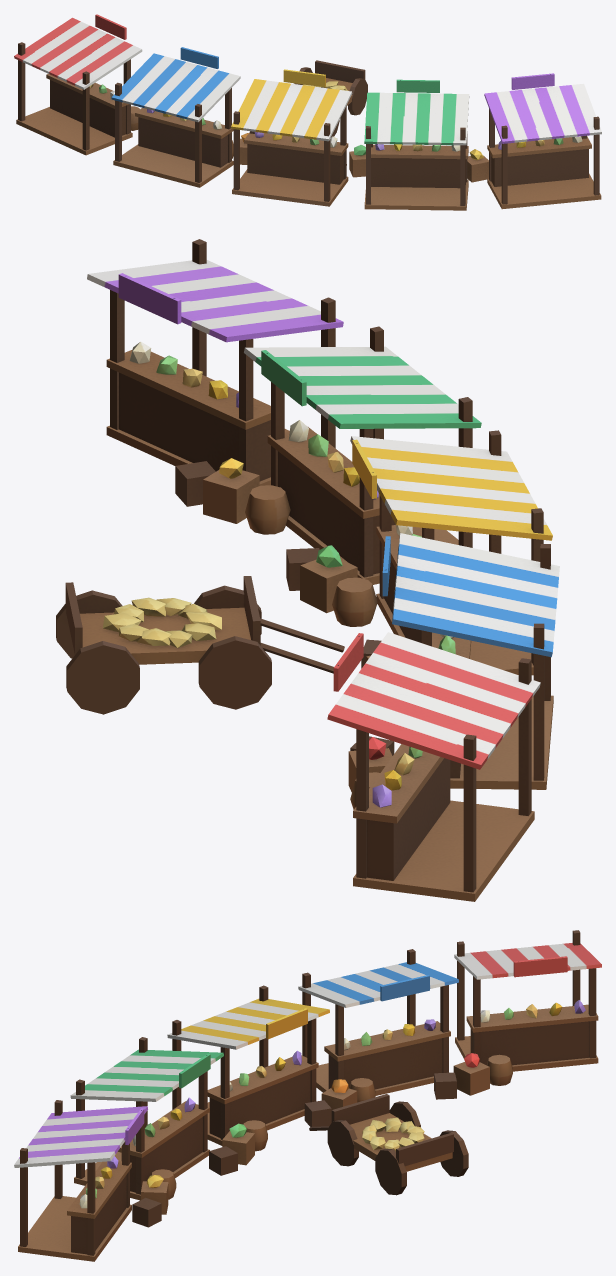
Rendered from hub_market.fbx.
3 views of the same model, one above another, from view 1: azimuth 30°, elevation 25°; view 2: azimuth 150°, elevation 25°; view 3: azimuth 270°, elevation 25° (orthographic). The views are drawn at different scales.
Visible parts, largest first — view 1: hub_market_body; view 2: hub_market_body; view 3: hub_market_body.
Boxes of the visible parts, left/top/right/bottom form: hub_market_body: left=14, top=14, right=601, bottom=210; hub_market_body: left=56, top=239, right=559, bottom=901; hub_market_body: left=14, top=930, right=601, bottom=1261.
Bounding box in the file's own units: 3470 × 820 × 3666.
1 material, 1 textured.
